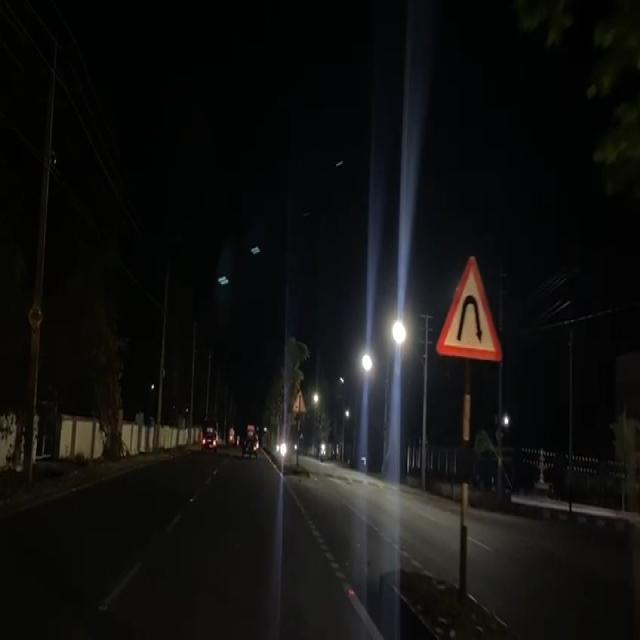bien_cam: (433, 248, 504, 370)
